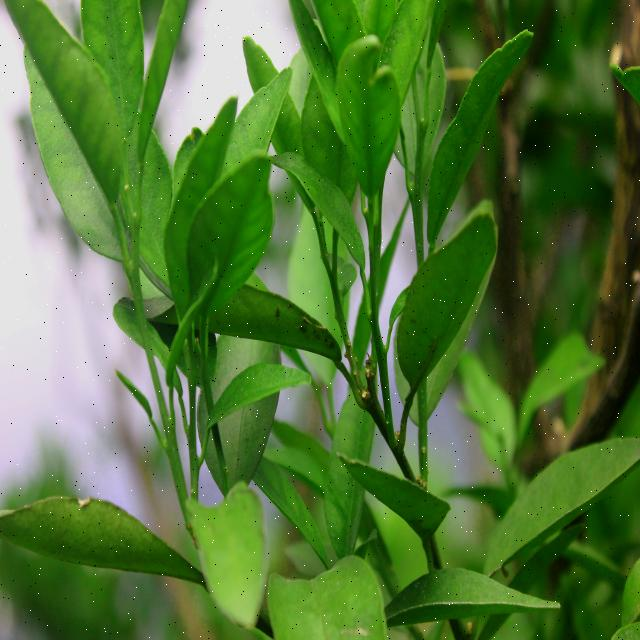blackspot: (258, 294, 336, 358), (402, 295, 448, 382), (418, 497, 442, 521)
